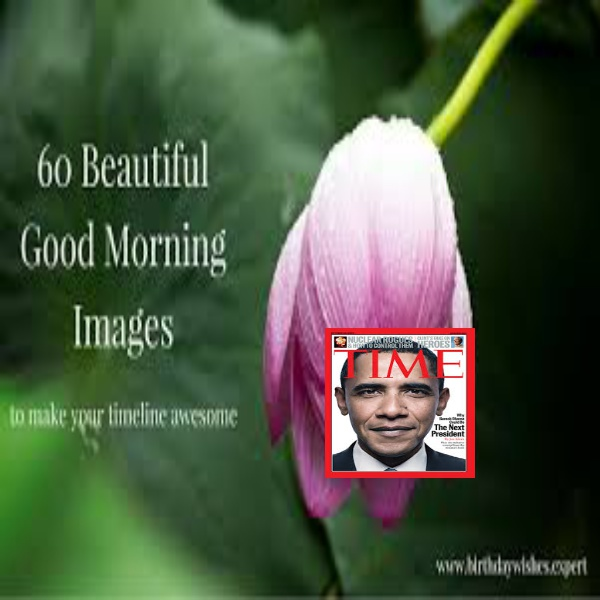time_cover: (323, 319, 479, 479)
